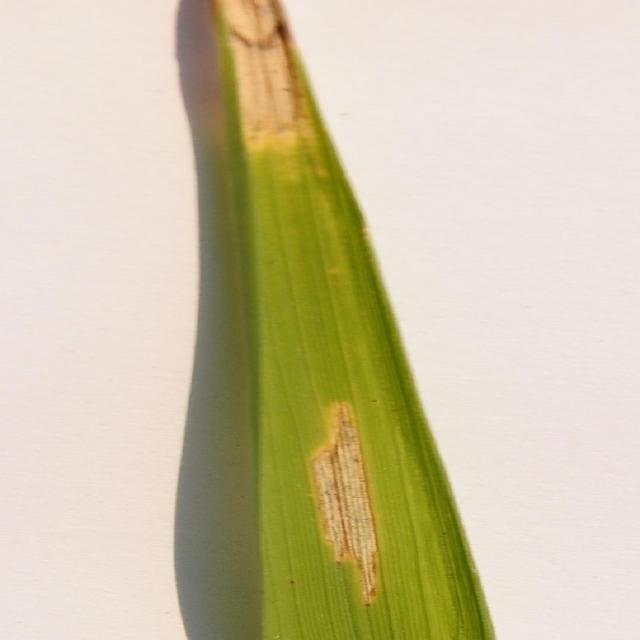leaf blight: (305, 397, 409, 608), (219, 1, 332, 155)
